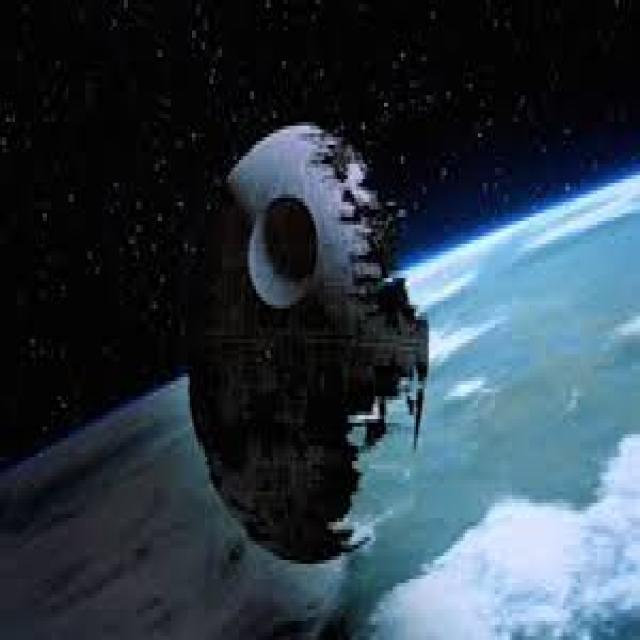deathStar: (188, 127, 430, 571)
